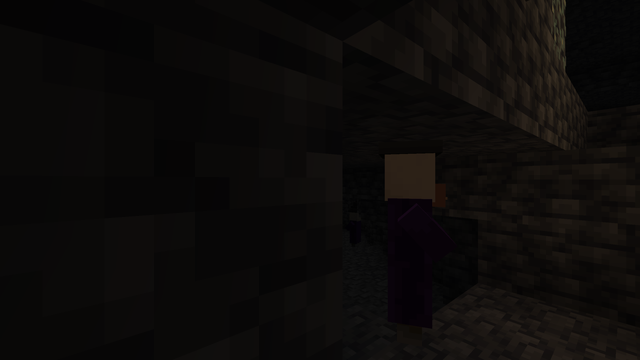sorcieres: (368, 143, 449, 357), (347, 209, 360, 247)
